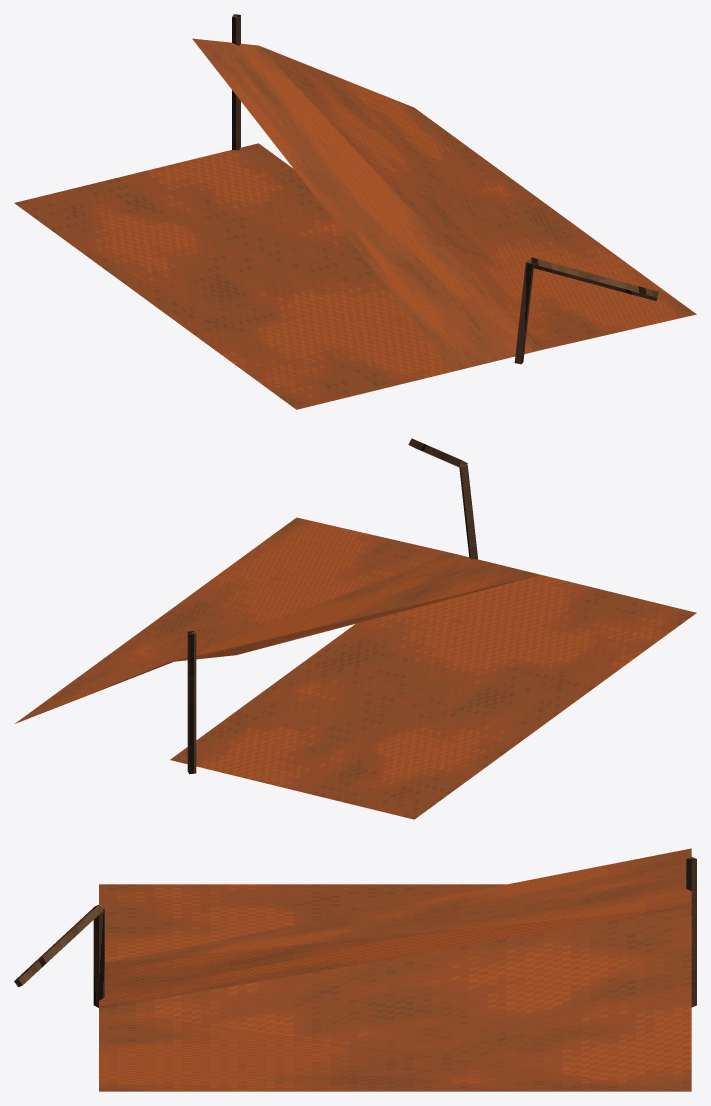
File: tienda_caida.obj
3 renders of one model, top to bottom at view 1: azimuth 30°, elevation 25°; view 2: azimuth 150°, elevation 25°; view 3: azimuth 270°, elevation 25°, orthographic. The views are drawn at different scales.
Parts seen in each view (by area): view 1: tienda_caida; view 2: tienda_caida; view 3: tienda_caida.
Part boxes in pixels (left/top/right/bottom): tienda_caida: left=14, top=14, right=696, bottom=409; tienda_caida: left=15, top=438, right=696, bottom=819; tienda_caida: left=14, top=848, right=696, bottom=1091.
Size of the model in its own units: 1.8 by 0.6024 by 2.54.
Materials: 2 (2 with a texture image).
